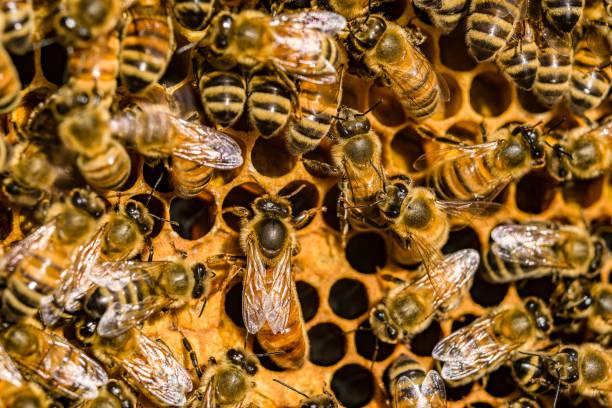Queen-Bee: (227, 194, 324, 368)
worker-bee: (40, 199, 153, 324), (0, 188, 105, 321), (377, 174, 500, 269), (347, 11, 447, 120), (200, 10, 346, 83), (369, 249, 479, 343), (414, 122, 545, 200), (432, 297, 552, 382), (307, 106, 386, 235), (77, 259, 208, 336), (0, 323, 107, 399), (484, 221, 604, 282)
